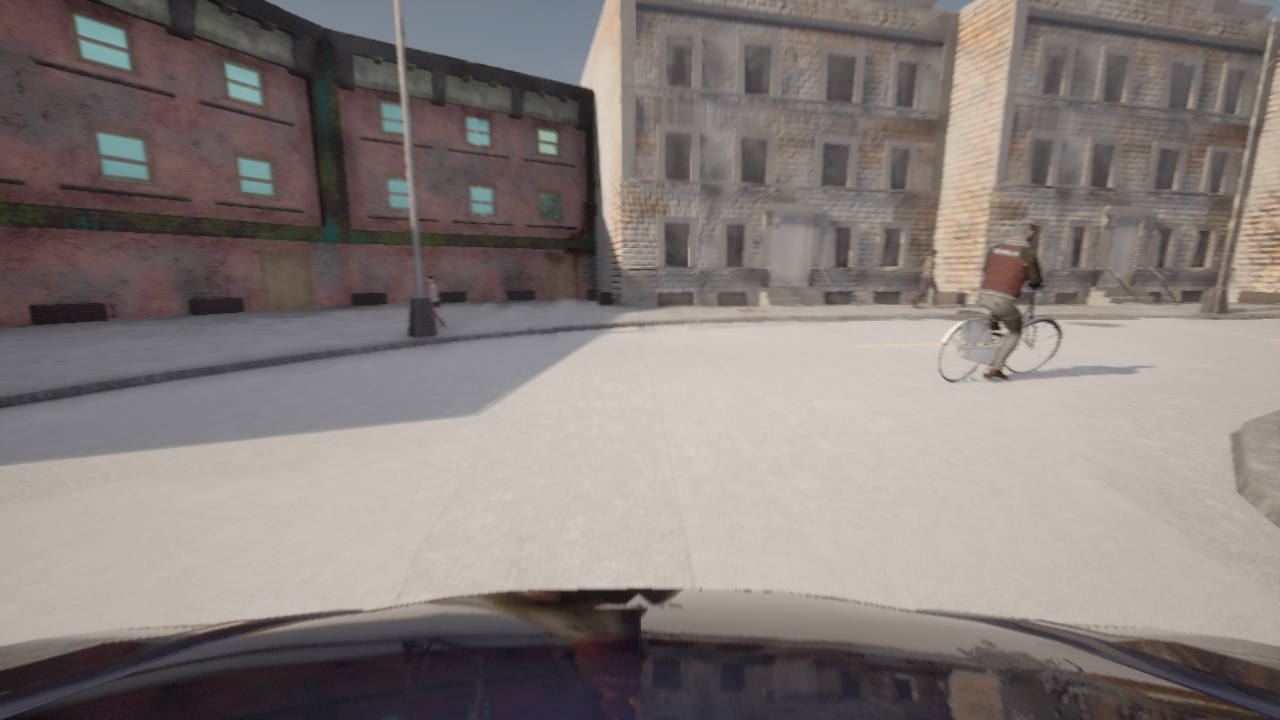cyclist: (0, 588, 1279, 719), (938, 279, 1061, 382)
pedestrian: (912, 250, 941, 307), (426, 274, 446, 327)
